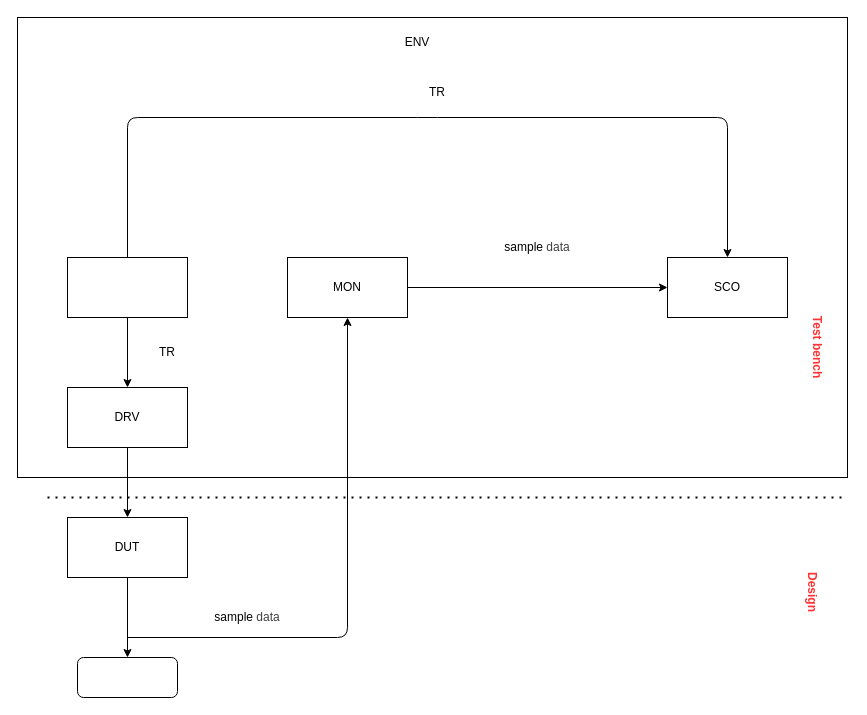
The diagram is 867 pixels wide and 715 high, and some of its shapes have lost their labels. The centre of each missing label's shape, as x and y in pixels:
GEN: [127,287]
simulation ouput: [127,677]
